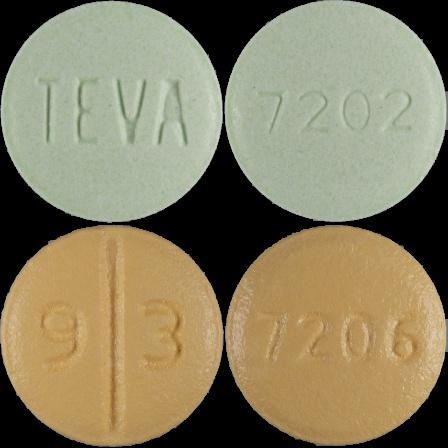0093-7202: (0, 0, 224, 224)
